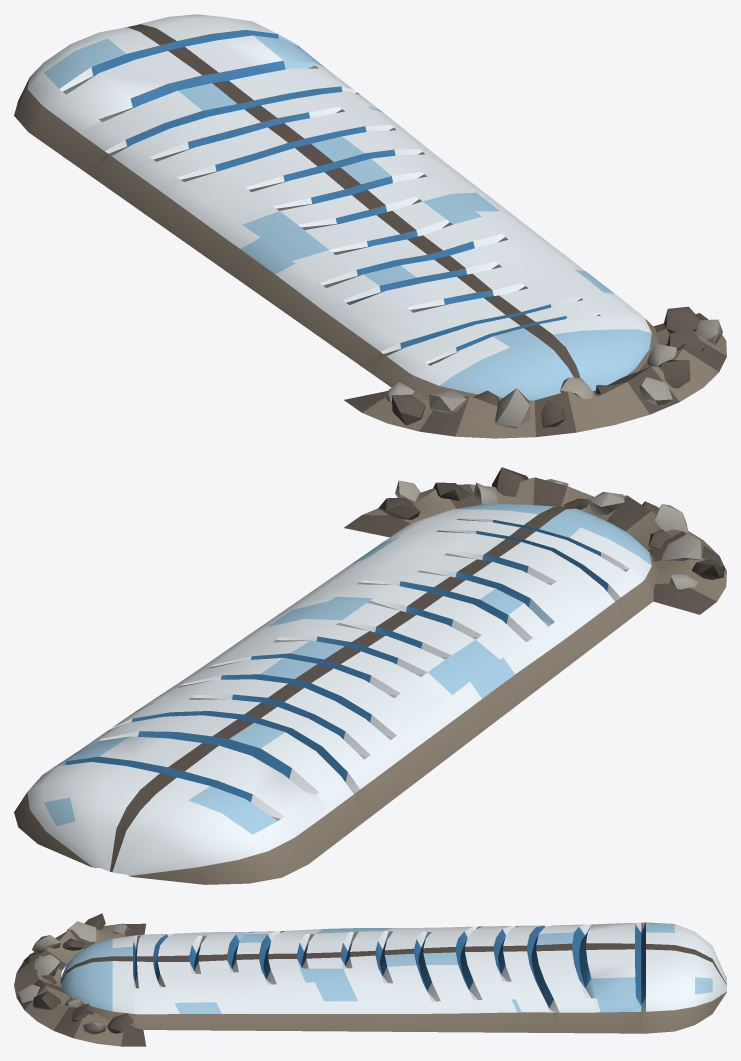
The model's file is glacier_tongue.glb.
3 renders of one model, top to bottom at view 1: azimuth 30°, elevation 25°; view 2: azimuth 150°, elevation 25°; view 3: azimuth 270°, elevation 25°, orthographic. The views are drawn at different scales.
Parts seen in each view (by area): view 1: body; view 2: body; view 3: body.
Boxes of the visible parts, box(x1,y1,x2,y2) form: body: box(14, 14, 726, 438); body: box(14, 467, 726, 884); body: box(14, 913, 726, 1046).
Bounding box in the file's own units: 100 × 14.95 × 246.
